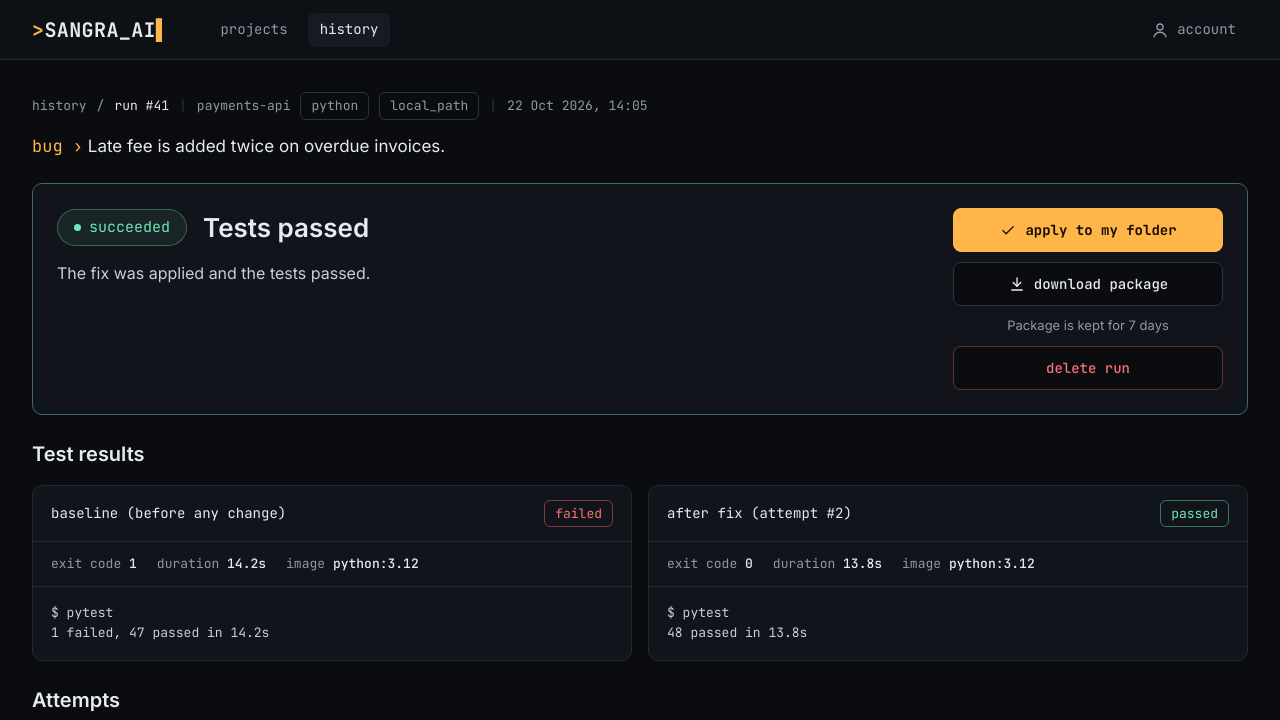
Scenario: problems › FE6-X02: LOCAL_PATH_NOT_ALLOWED on apply -> the message
Check: the element named "result" is shown, box [32,183,1248,414]
Click the button "apply to my folder": (1088, 230) [953,208,1223,252]
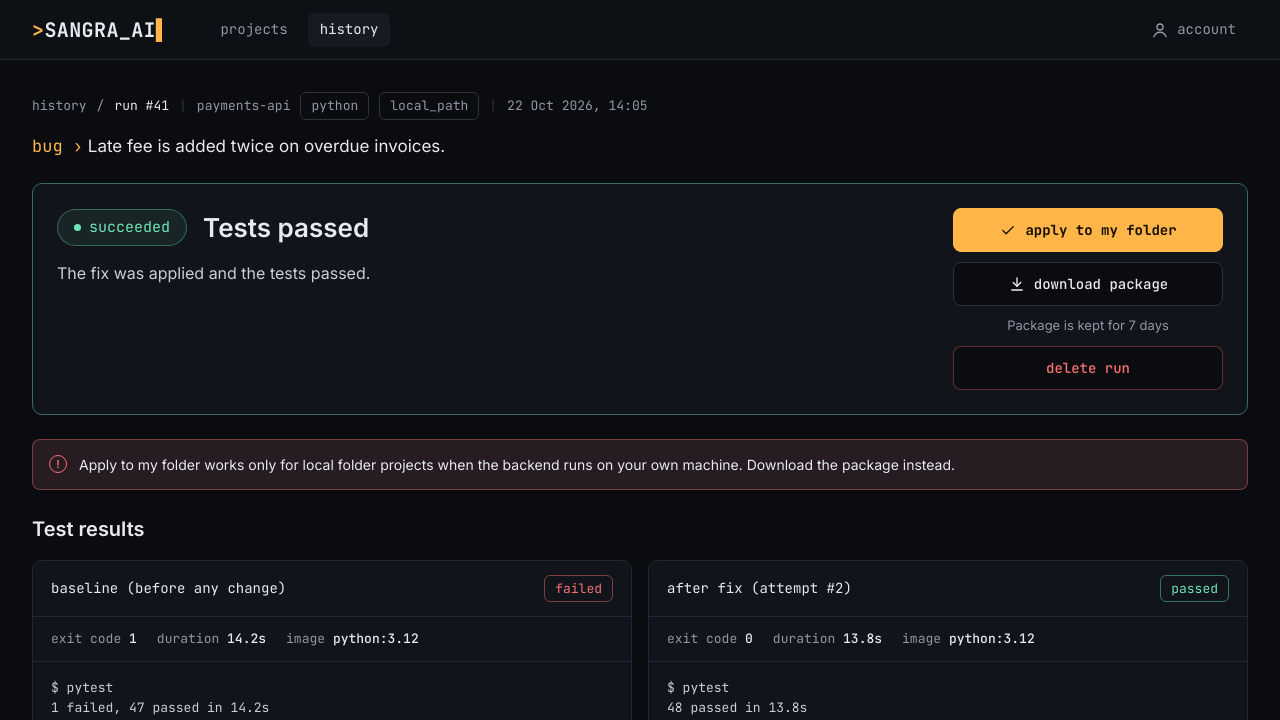
Check: the message shows "Apply to my folder works only for local folder projects when the backend runs on your own machine. Download the package instead.", box [79,456,955,472]
